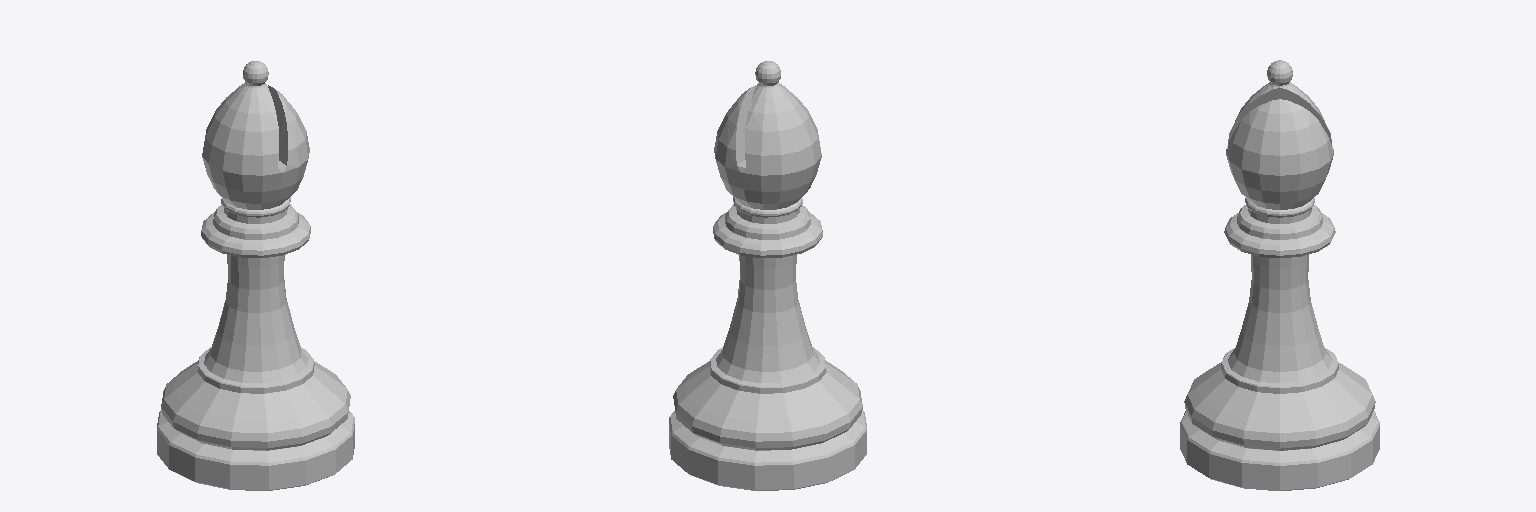
The model's file is ChessPieces_Bishop.obj.
The picture shows the model from 3 angles: view 1: azimuth 30°, elevation 25°; view 2: azimuth 150°, elevation 25°; view 3: azimuth 270°, elevation 25°; orthographic projection.
Visible parts, largest first — view 1: Bishop_Cylinder.003; view 2: Bishop_Cylinder.003; view 3: Bishop_Cylinder.003.
Part boxes in pixels (bbox=[...]): Bishop_Cylinder.003: bbox=[157, 61, 354, 490]; Bishop_Cylinder.003: bbox=[669, 61, 866, 490]; Bishop_Cylinder.003: bbox=[1180, 60, 1379, 490].
Bounding box in the file's own units: 0.3382 × 0.7226 × 0.3382.